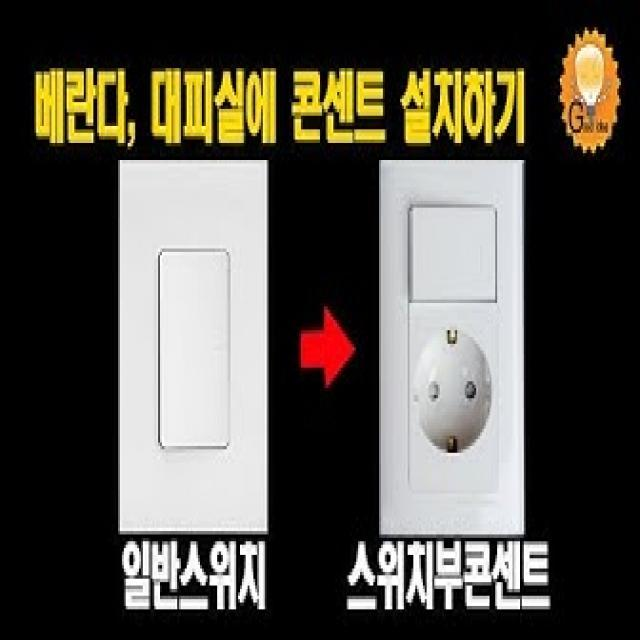typeb: (373, 150, 534, 538)
